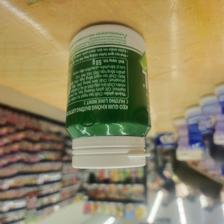Xylitol_green: (63, 21, 152, 171)
